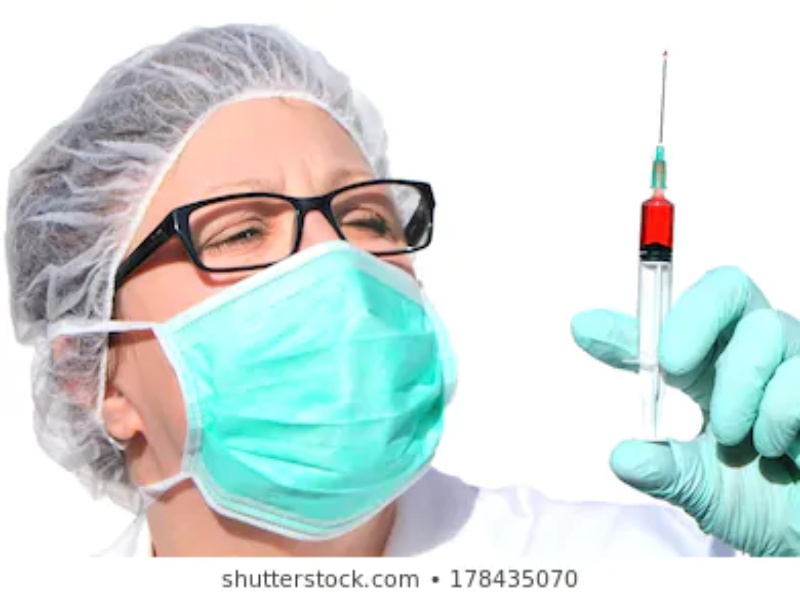ManaoArotava: (54, 77, 515, 585)
